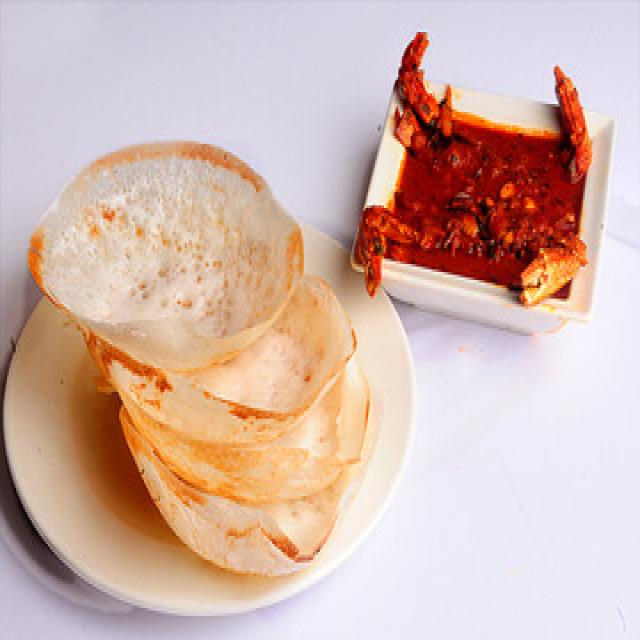AAPAM: (30, 141, 368, 573)
FISH CURRY: (350, 32, 613, 331)
